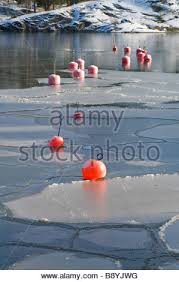buoy: (83, 160, 106, 180), (49, 136, 65, 148), (48, 74, 60, 88), (73, 69, 84, 79), (68, 60, 78, 69), (121, 55, 130, 64), (143, 56, 152, 65), (138, 51, 146, 61), (90, 65, 98, 74), (122, 48, 131, 55), (112, 46, 117, 51)
